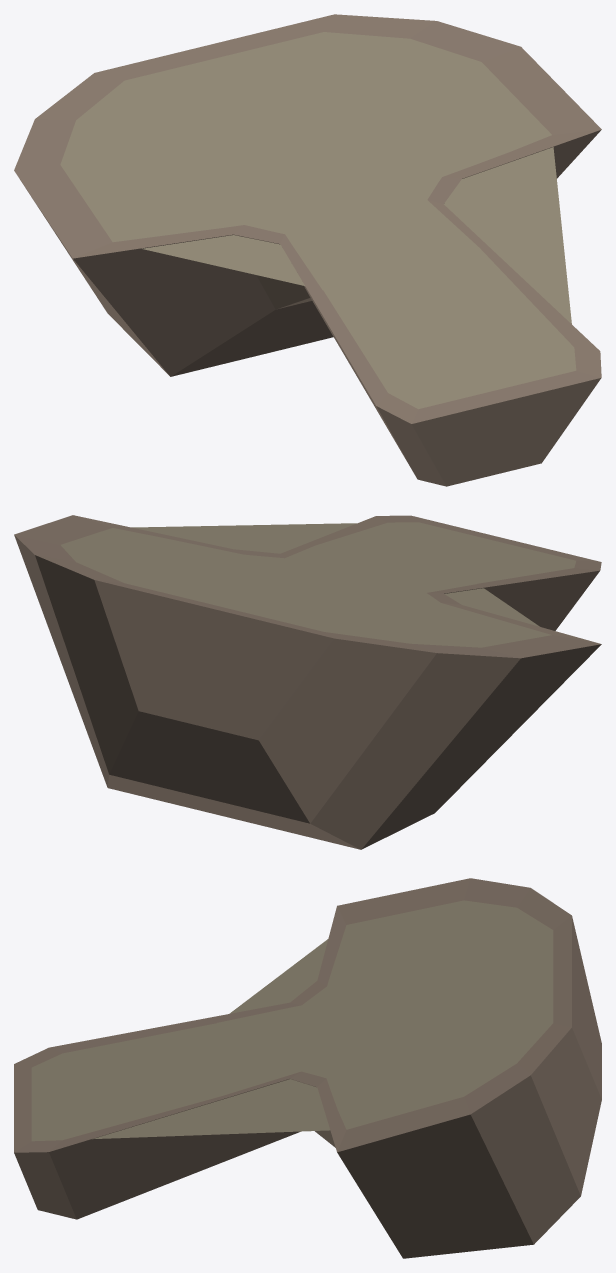
Rendered from Mushroom_Sliced.glb.
The picture shows the model from 3 angles, top to bottom: view 1: azimuth 30°, elevation 25°; view 2: azimuth 150°, elevation 25°; view 3: azimuth 270°, elevation 25°; orthographic projection. The views are drawn at different scales.
Parts seen in each view (by area): view 1: Beige, LightBrown; view 2: LightBrown, Beige; view 3: Beige, LightBrown.
Part boxes in pixels (x1,y1,x2,y2): Beige: (60, 32, 576, 409); LightBrown: (14, 14, 601, 486); LightBrown: (14, 515, 601, 849); Beige: (61, 522, 575, 647); Beige: (31, 900, 553, 1141); LightBrown: (14, 878, 601, 1258).
Size of the model in its own units: 0.4135 by 0.1765 by 0.4166.
